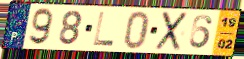0: (122, 10, 152, 51)
6: (188, 14, 213, 51)
8: (58, 9, 83, 46)
9: (27, 8, 54, 47)
L: (92, 11, 116, 47)
X: (153, 11, 190, 52)
